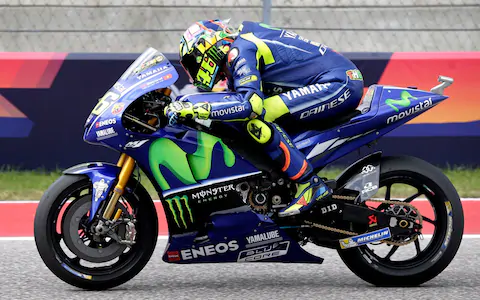helmet: (173, 15, 237, 87)
